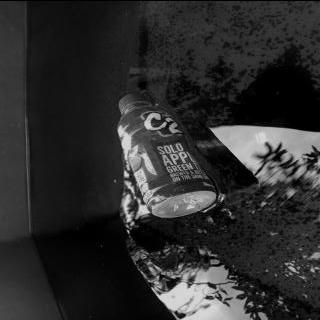bottle: (116, 91, 220, 217)
